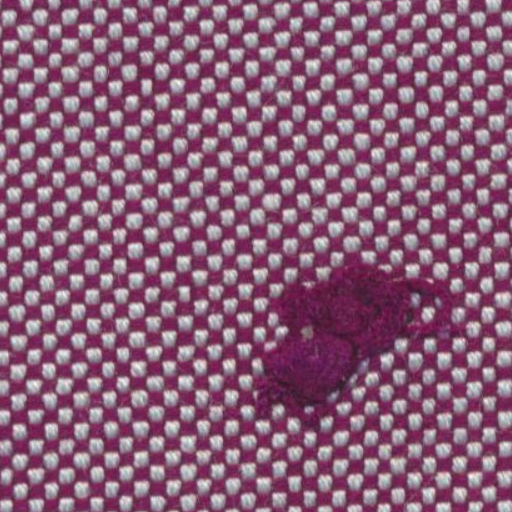MianQiu: (252, 236, 468, 434)
